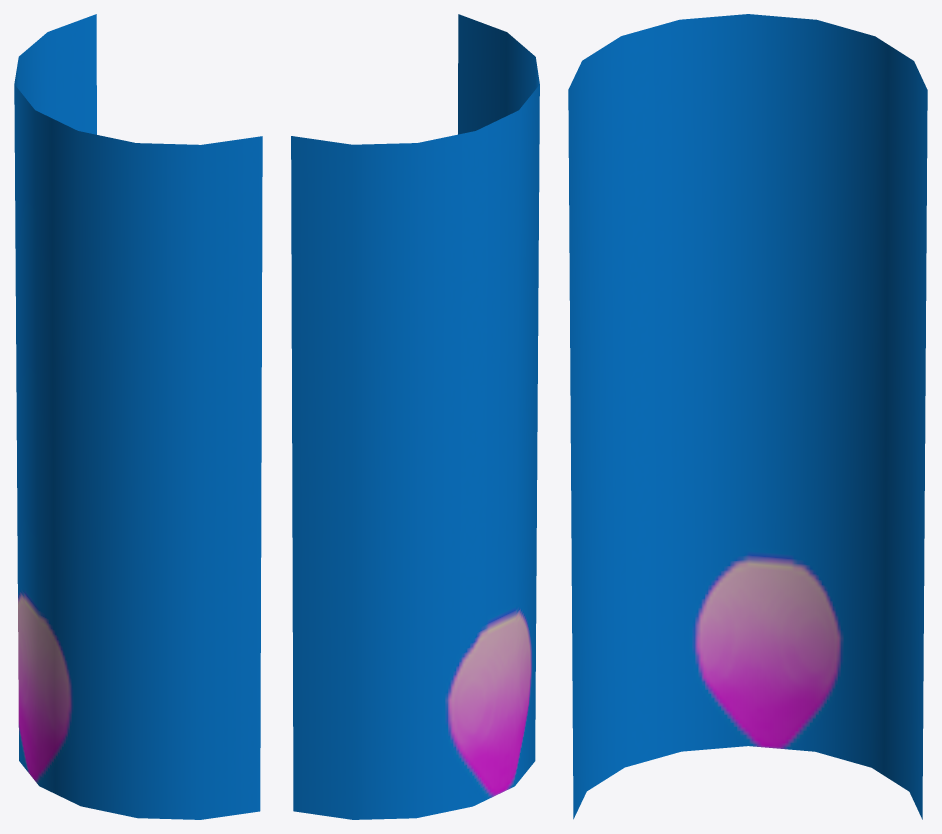
The model's file is p_trashbot_splatter_plane03.fbx.
3 renders of one model, left to right at view 1: azimuth 30°, elevation 25°; view 2: azimuth 150°, elevation 25°; view 3: azimuth 270°, elevation 25°, orthographic. The views are drawn at different scales.
Visible parts, largest first — view 1: Fluid2; view 2: Fluid2; view 3: Fluid2.
Part boxes in pixels (x1,y1,x2,y2): Fluid2: [14, 14, 262, 819]; Fluid2: [291, 14, 539, 819]; Fluid2: [568, 14, 927, 819].
Bounding box in the file's own units: 0.306 × 1.37 × 0.6108.
